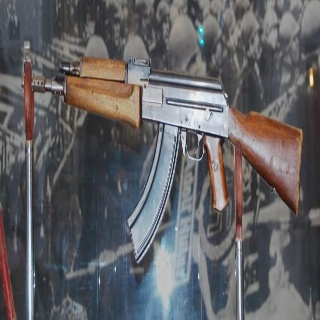rifle: (20, 40, 304, 266)
